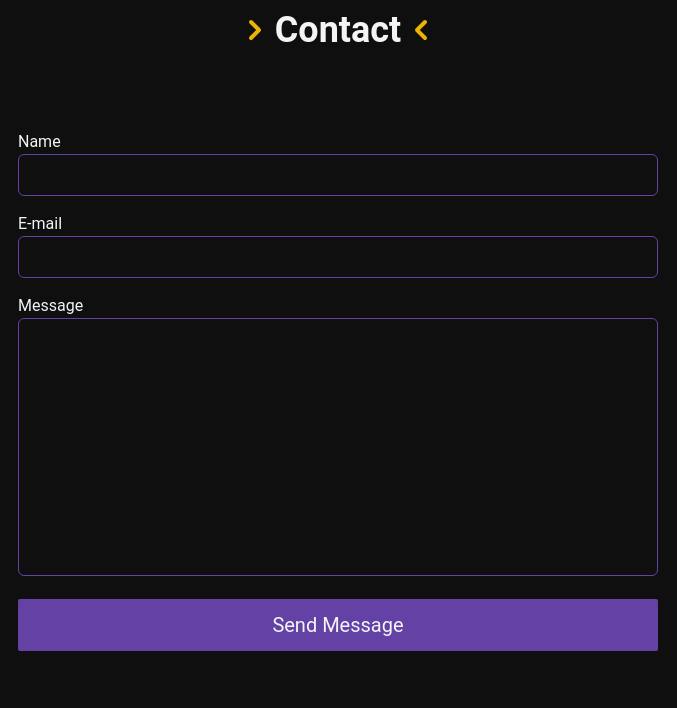
Test: Contact › Error handling › should show name error if there is no name
Expected: the text "name is required." is not shown
Click the button at (338, 625), box [18,599,658,651]
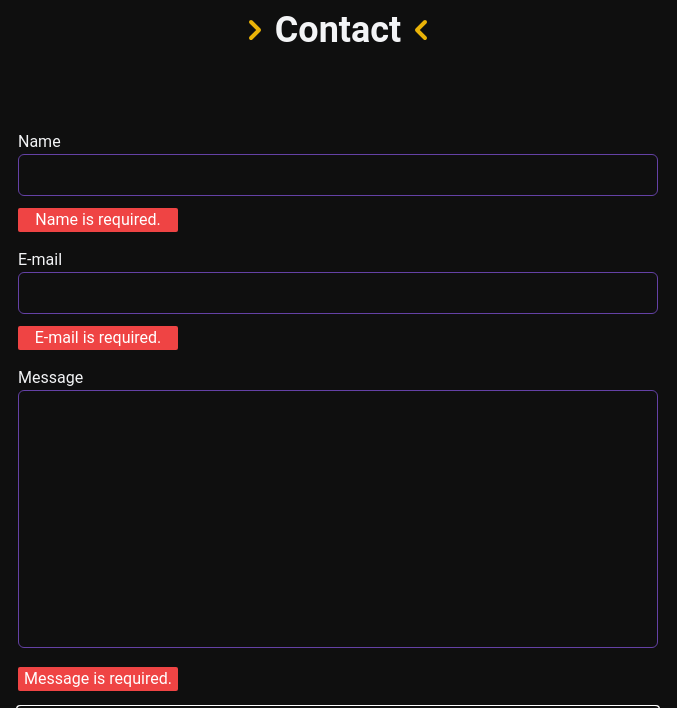
Now the text "Name is required." is shown, box [18,208,178,232]
